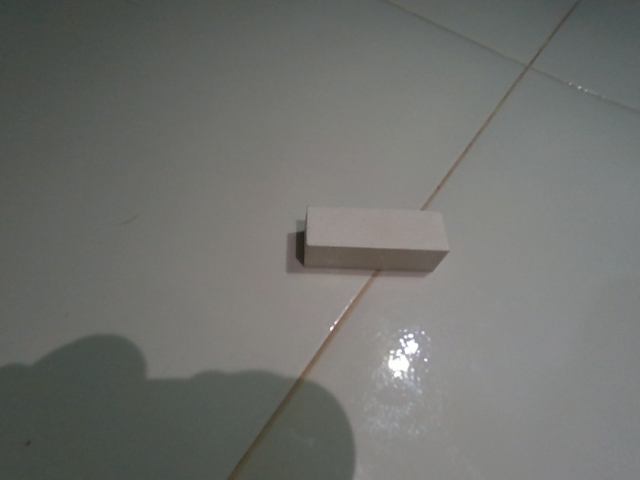Balok-Putih: (303, 204, 438, 268)
